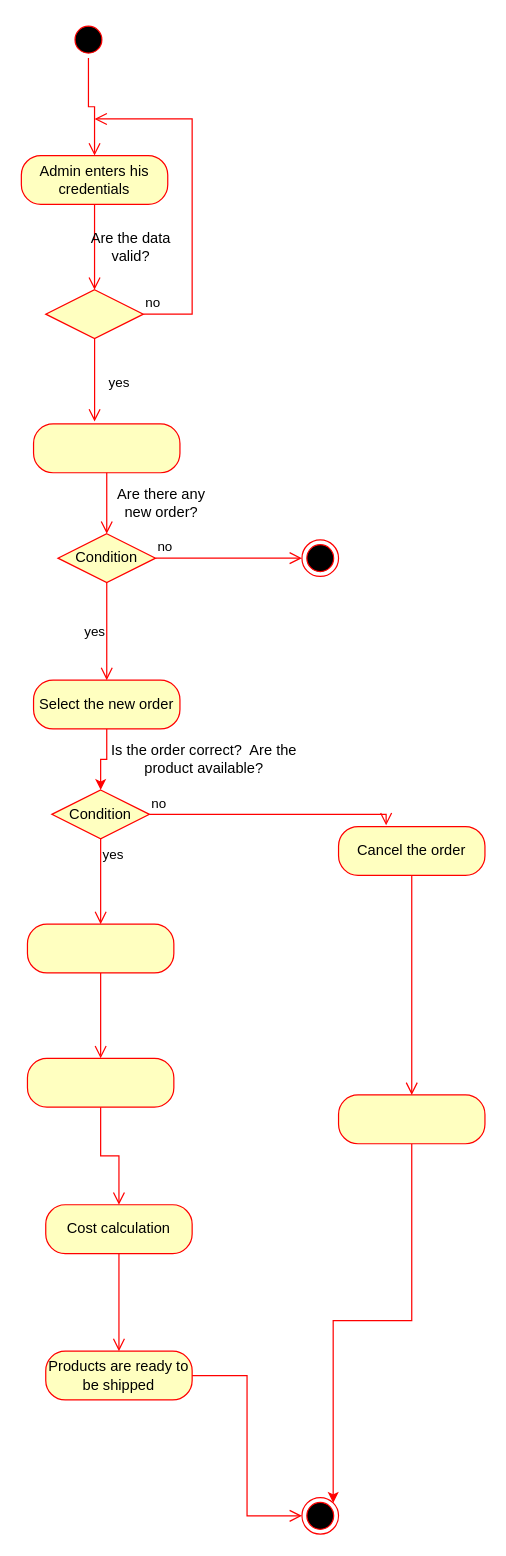
This 506x1556 diagram has some shape labels left out. The centre of each missing label's shape, as x and y in pixels:
Aprove the order: (100,948)
Client is informed about the cancelation of his order: (411,1119)
Enter the manage orders page: (106,448)
Products are deleted from the database: (100,1082)
